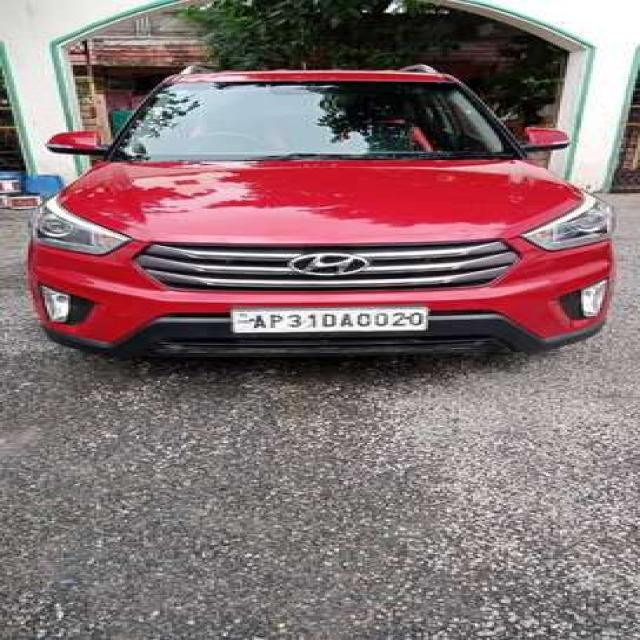Plate: (229, 305, 427, 332)
